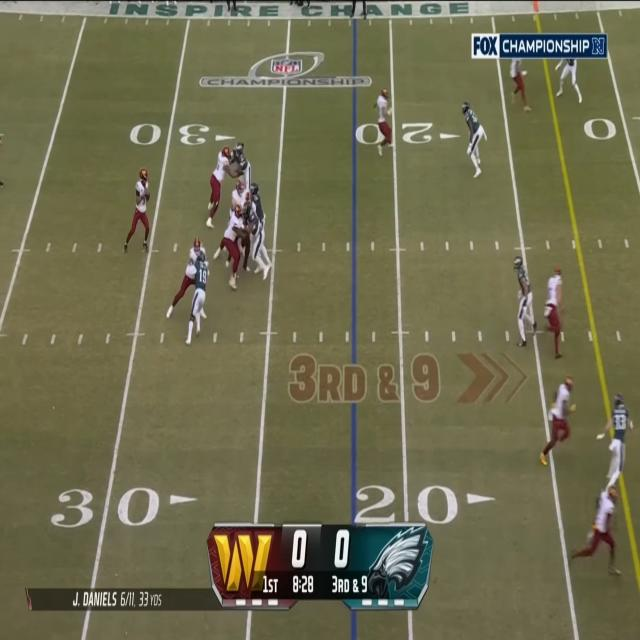Ball: (145, 188, 151, 201)
